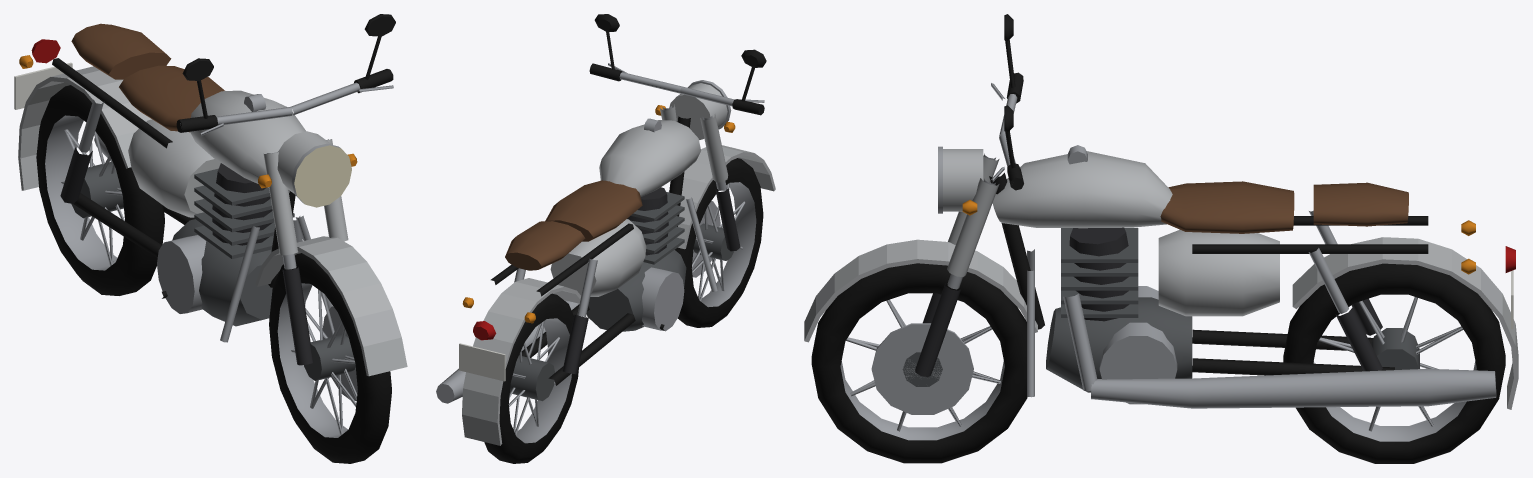
File: cruiser_bike.glb
3 renders of one model, left to right at view 1: azimuth 30°, elevation 25°; view 2: azimuth 150°, elevation 25°; view 3: azimuth 270°, elevation 25°, orthographic. The views are drawn at different scales.
Parts seen in each view (by area): view 1: cruiser_bike; view 2: cruiser_bike; view 3: cruiser_bike.
Part boxes in pixels (x1=…): cruiser_bike: x1=14, y1=14, x2=407, y2=463; cruiser_bike: x1=436, y1=14, x2=775, y2=463; cruiser_bike: x1=804, y1=14, x2=1518, y2=463.
Bounding box in the file's own units: 0.75 × 1.3 × 2.12.
